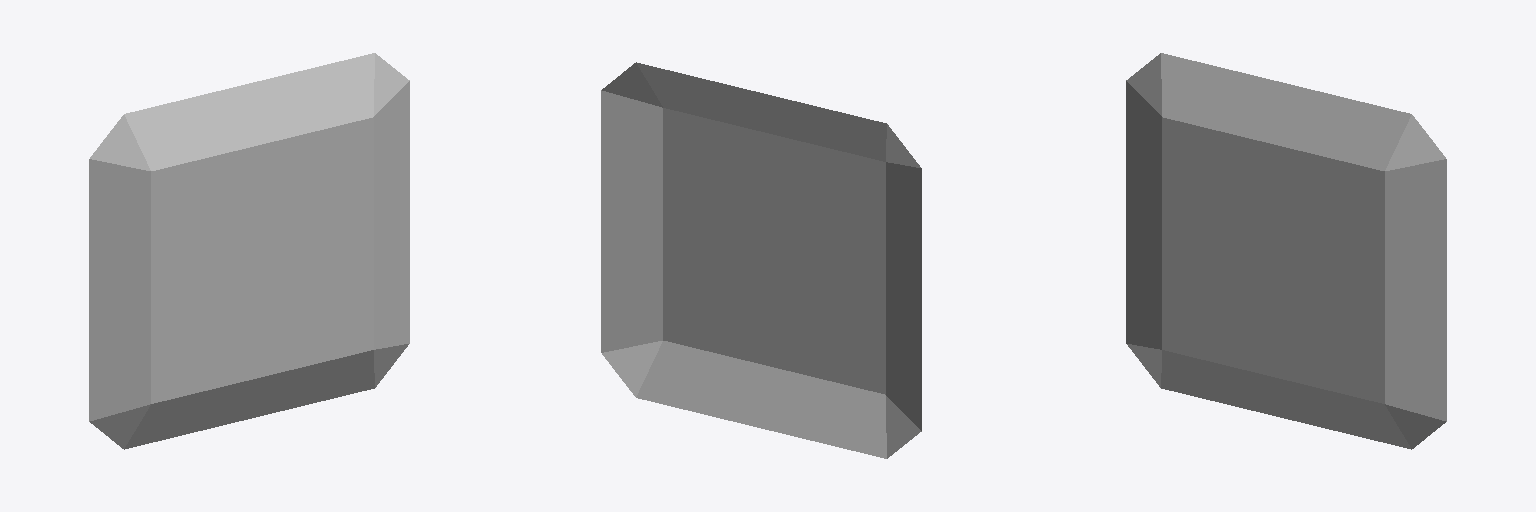
Rendered from upgradeSlotSimple.obj.
3 views of the same model, side by side, from view 1: azimuth 30°, elevation 25°; view 2: azimuth 150°, elevation 25°; view 3: azimuth 330°, elevation 25° (orthographic).
Visible parts, largest first — view 1: Object.1; view 2: Object.1; view 3: Object.1.
Part boxes in pixels (left/top/right/bottom): Object.1: left=89, top=53, right=409, bottom=449; Object.1: left=601, top=62, right=921, bottom=458; Object.1: left=1126, top=53, right=1446, bottom=449.
Size of the model in its own units: 41.67 by 41.67 by 2.92.